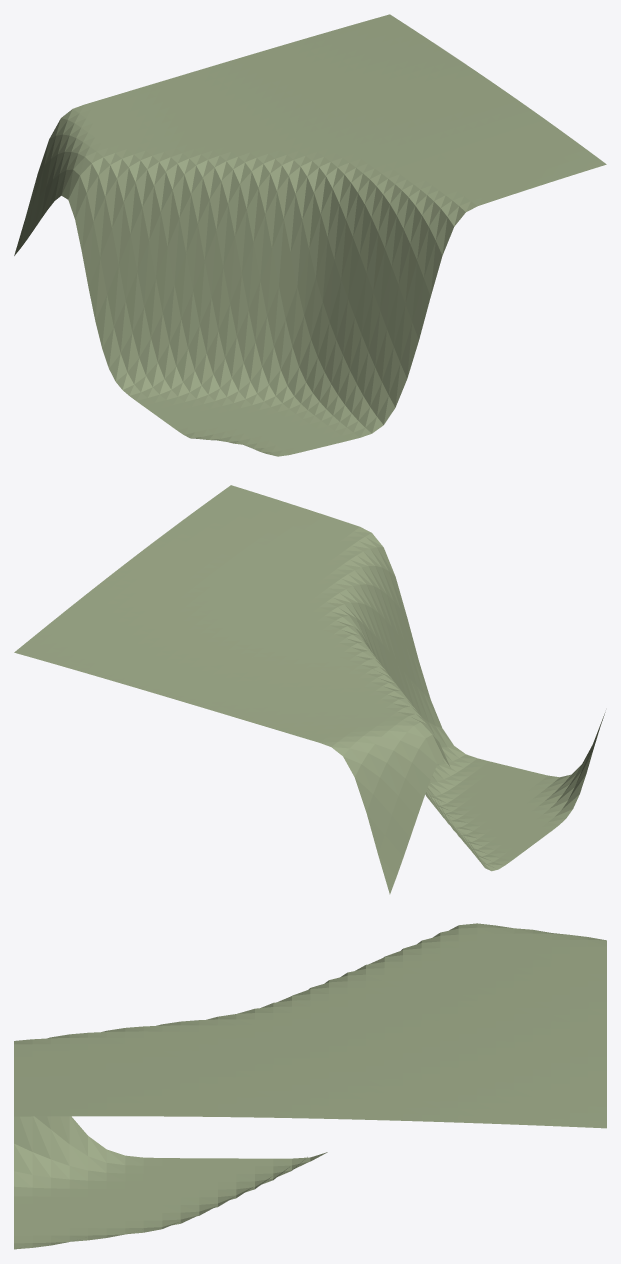
The model's file is canyon-2-2.glb.
3 renders of one model, top to bottom at view 1: azimuth 30°, elevation 25°; view 2: azimuth 150°, elevation 25°; view 3: azimuth 270°, elevation 25°, orthographic. The views are drawn at different scales.
Visible parts, largest first — view 1: canyon-2-2; view 2: canyon-2-2; view 3: canyon-2-2.
Boxes of the visible parts, x1,y1,x2,y2 form: canyon-2-2: (14, 14, 606, 456); canyon-2-2: (14, 485, 605, 894); canyon-2-2: (14, 923, 606, 1249).
Size of the model in its own units: 128 by 69.78 by 128.
